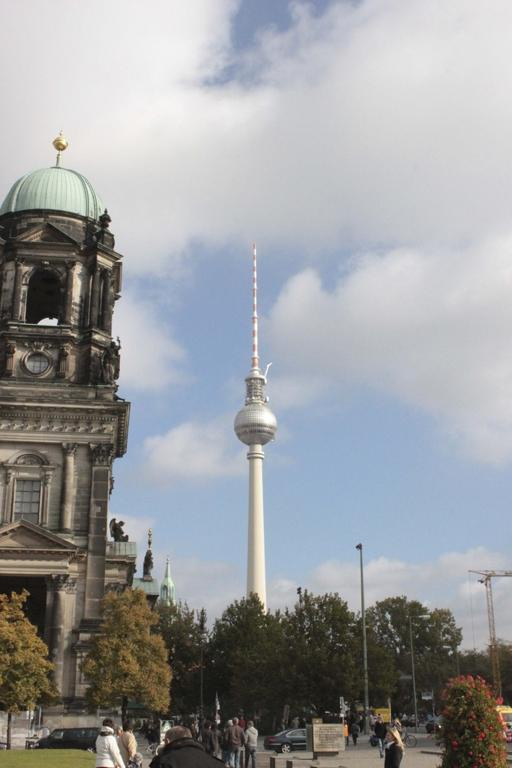non-vehicle: (382, 727, 418, 748), (145, 744, 156, 757)
